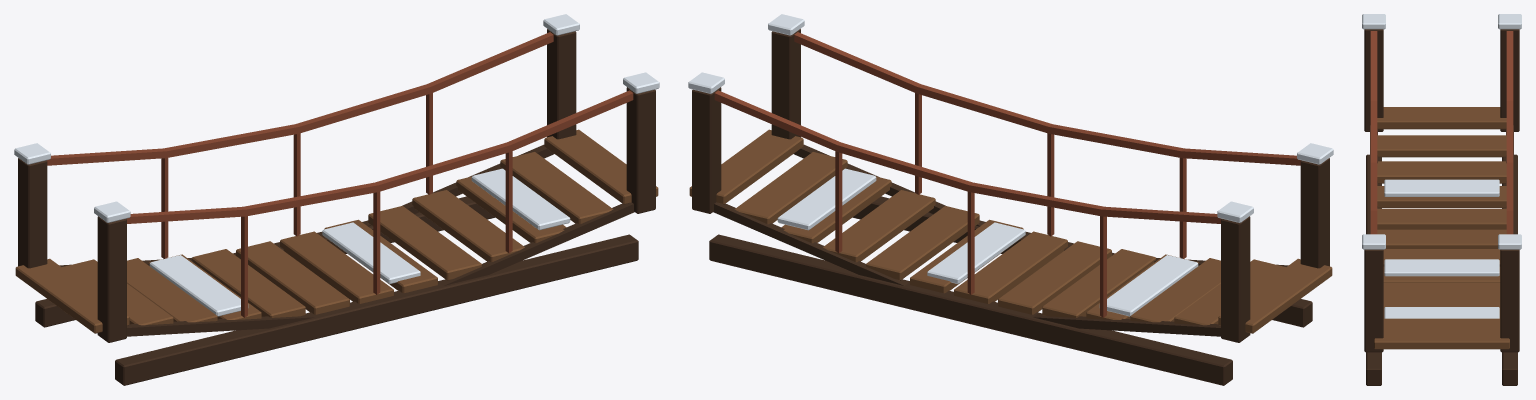
Rendered from MenuCanyonBridge.fbx.
3 renders of one model, left to right at view 1: azimuth 30°, elevation 25°; view 2: azimuth 150°, elevation 25°; view 3: azimuth 270°, elevation 25°, orthographic. The views are drawn at different scales.
Visible parts, largest first — view 1: MenuCanyonBridge; view 2: MenuCanyonBridge; view 3: MenuCanyonBridge.
Boxes of the visible parts, bbox=[...] form: MenuCanyonBridge: bbox=[14, 14, 659, 385]; MenuCanyonBridge: bbox=[688, 14, 1333, 385]; MenuCanyonBridge: bbox=[1362, 14, 1521, 385].
Size of the model in its own units: 982 by 293 by 282.
